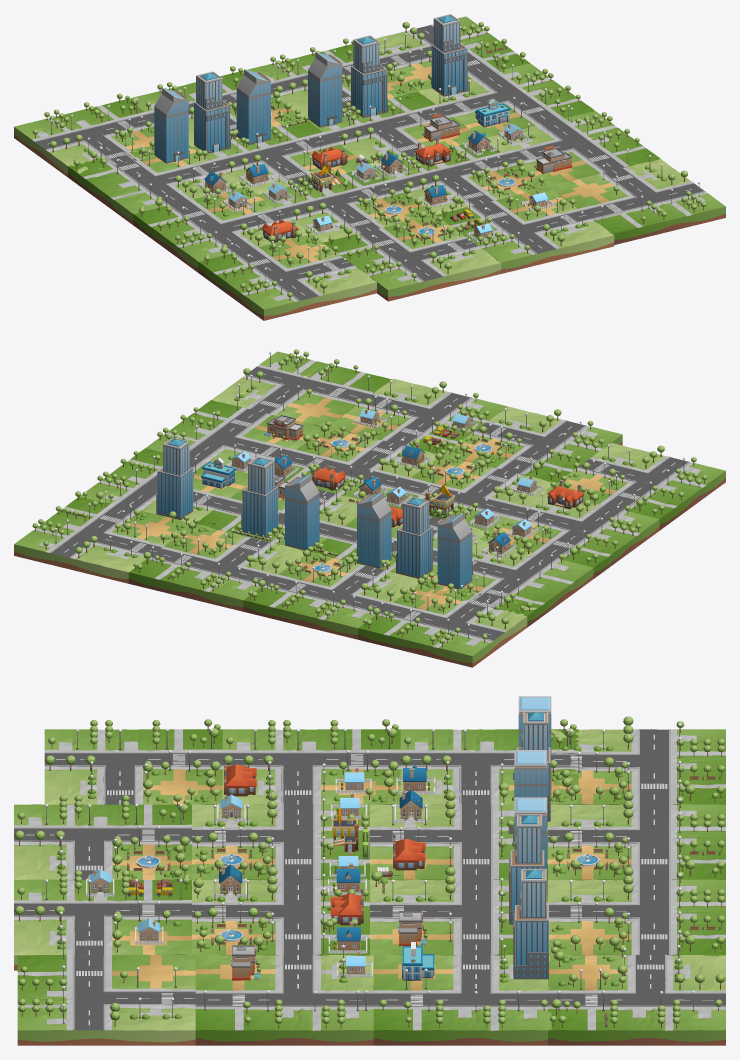
The model's file is map.glb.
The picture shows the model from 3 angles, top to bottom: view 1: azimuth 30°, elevation 25°; view 2: azimuth 150°, elevation 25°; view 3: azimuth 270°, elevation 25°; orthographic projection. The views are drawn at different scales.
Visible parts, largest first — view 1: land downtown (×16), building-model-06, building-model-05, building-model-02, building-model-04, building-model-01, building-model-03, building-model-23, building-model-10, building-model-11, building-model-17, building-model-09 (+2 smaller); view 2: land downtown (×16), building-model-02, building-model-06, building-model-05, building-model-01, building-model-04, building-model-03, building-model-11, building-model-23, building-model-20, building-model-17, building-model-14; view 3: land downtown (×16), building-model-06, building-model-05, building-model-03, building-model-02, building-model-04, building-model-11, building-model-09, building-model-20, building-model-01, building-model-17, building-model-14 (+7 smaller).
Boxes of the visible parts, x1,y1,x2,y2 form: land downtown (×16): (14,16,725,320); building-model-06: (431,14,468,96); building-model-05: (351,35,387,117); building-model-02: (194,71,230,153); building-model-04: (308,52,342,127); building-model-01: (154,88,188,163); building-model-03: (236,69,270,144); building-model-23: (536,145,572,173); building-model-10: (424,113,459,141); building-model-11: (475,99,510,127); building-model-17: (414,138,451,165); building-model-09: (311,146,348,169); land downtown (×16): (14,351,725,667); building-model-02: (396,496,433,578); building-model-06: (156,437,193,519); building-model-05: (241,456,278,538); building-model-01: (437,513,472,589); building-model-04: (285,474,319,550); building-model-03: (357,492,391,568); building-model-11: (201,458,236,488); building-model-23: (267,415,303,440); building-model-20: (547,480,584,509); building-model-17: (311,467,345,490); building-model-14: (425,484,455,515); land downtown (×16): (14,729,725,1045); building-model-06: (513,869,548,979); building-model-05: (509,814,544,924); building-model-03: (508,750,547,841); building-model-02: (517,711,550,821); building-model-04: (508,797,547,895); building-model-11: (402,942,434,980); building-model-09: (393,834,425,870); building-model-20: (224,760,256,796); building-model-01: (513,696,551,794); building-model-17: (330,889,363,925); building-model-14: (332,809,358,851).
Size of what is drawn, in the model's own units: 180 by 32.37 by 180.
5 materials, 5 textured.
